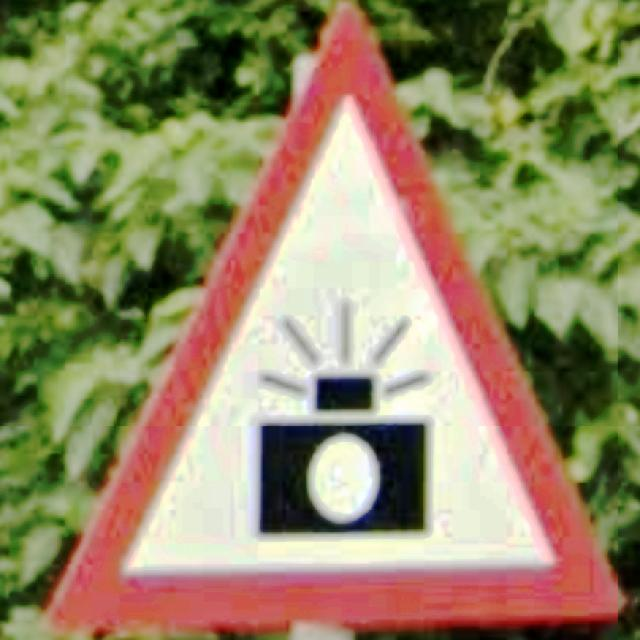speedcamera: (44, 3, 621, 634)
